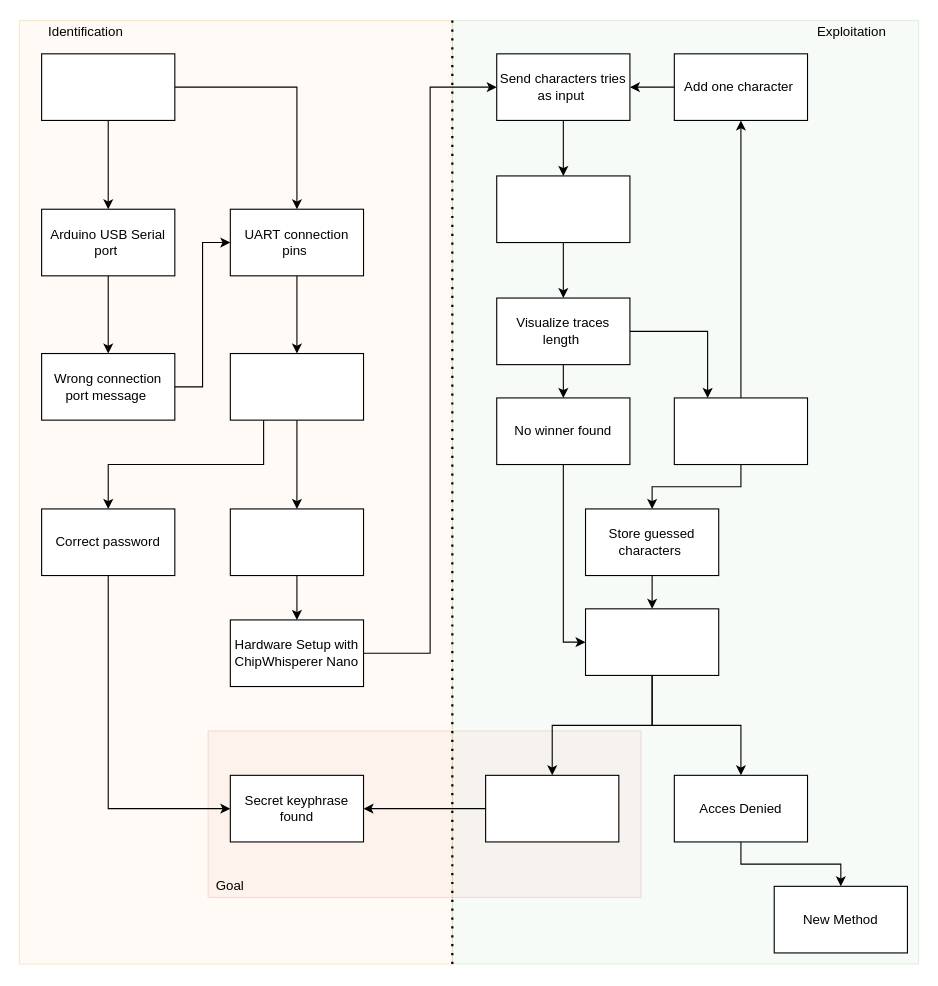
The diagram is 938 pixels wide and 986 high, and some of its shapes have lost their labels. Each missing label, with the centre of its shape:
"Acces Granted" goes at (x=552, y=808).
"Entry point protected by password" goes at (x=296, y=386).
"Incorrect password" goes at (x=296, y=542).
"One character wins" goes at (x=740, y=431).
"Physical Access" goes at (x=108, y=86).
"Plot the power traces with each characters" goes at (x=563, y=209).
"Try password with correct characters found" goes at (x=651, y=641).
